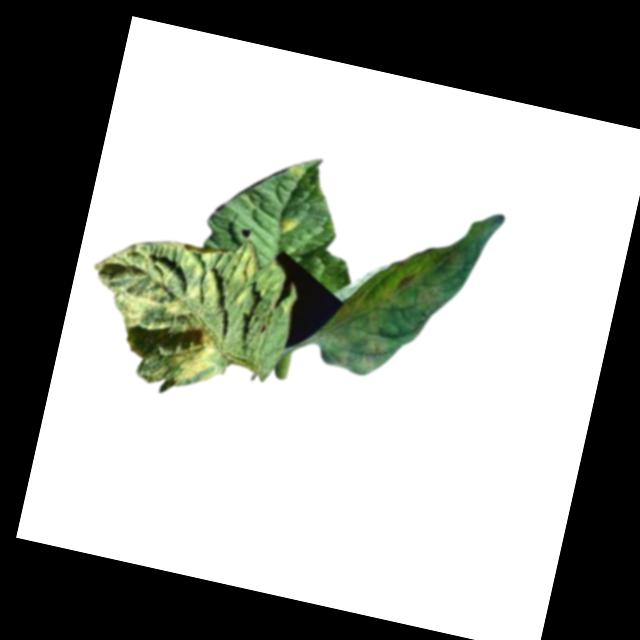Leaf_Mold: (76, 212, 264, 409), (317, 263, 399, 380), (275, 211, 301, 237)
